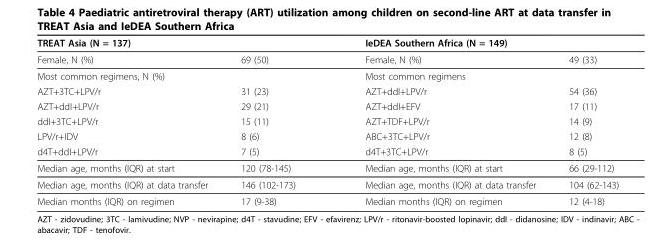table: (36, 36, 618, 206)
table column: (329, 36, 551, 206), (36, 36, 223, 206), (223, 36, 329, 206), (551, 36, 618, 206)
table column header: (36, 36, 618, 67)
table row: (36, 50, 618, 67), (36, 159, 618, 176), (36, 67, 618, 83), (36, 143, 618, 159), (36, 176, 618, 192), (36, 83, 618, 98), (36, 98, 618, 113), (36, 113, 618, 128), (36, 128, 618, 143), (36, 36, 618, 50), (36, 192, 618, 206)
table spanning cell: (36, 36, 329, 50), (329, 36, 618, 50)
